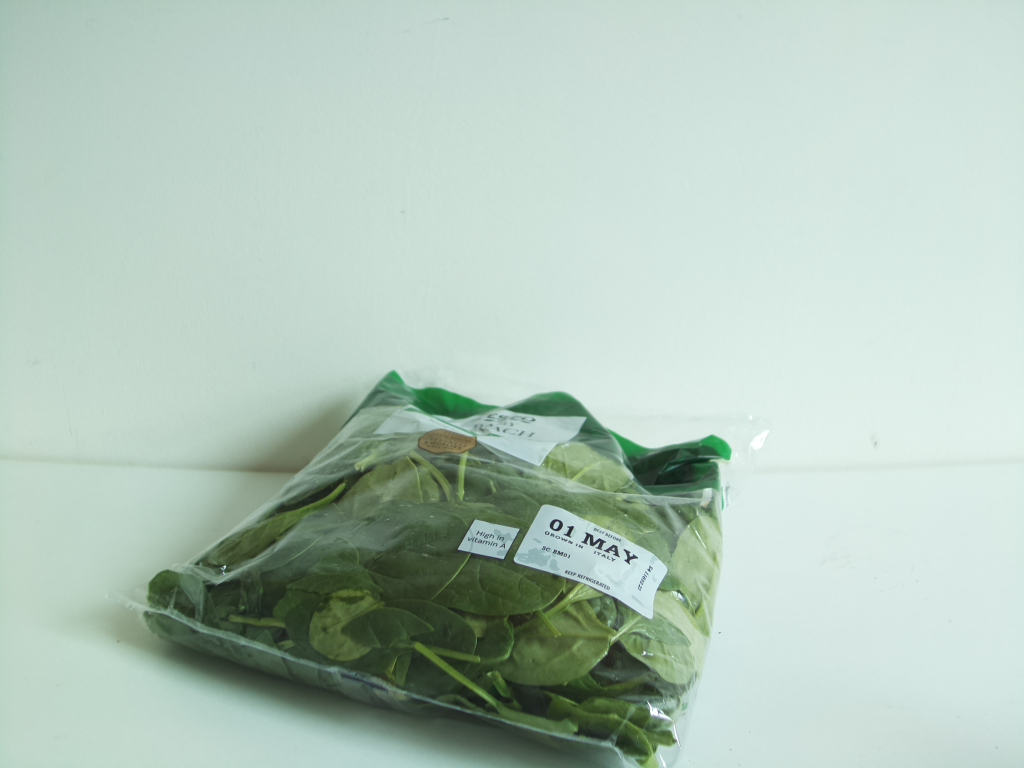salad: (147, 375, 745, 763)
